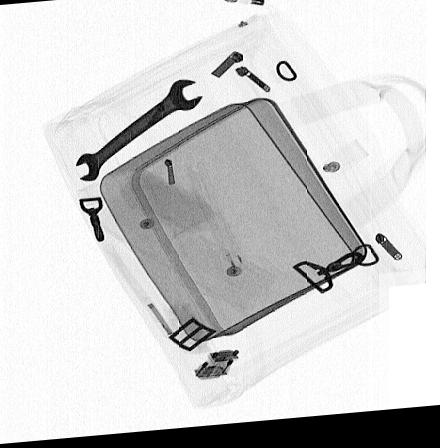Wrench: (74, 80, 205, 183)
